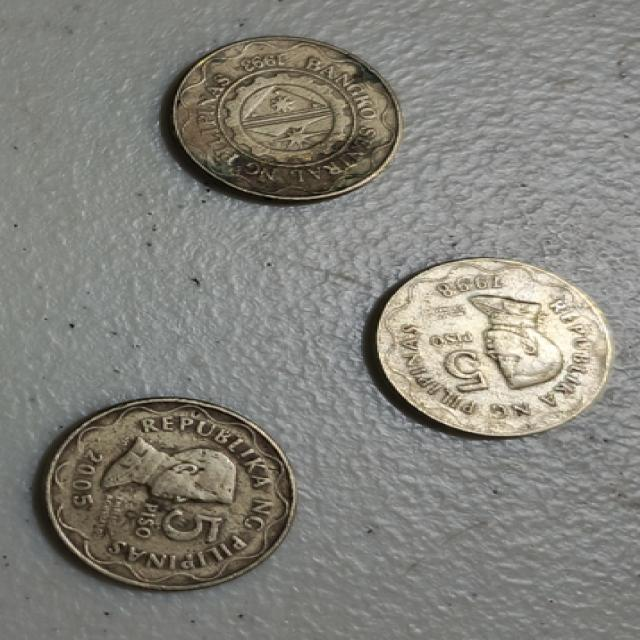5_peso: (46, 399, 295, 590), (377, 257, 611, 436), (173, 37, 400, 200)
